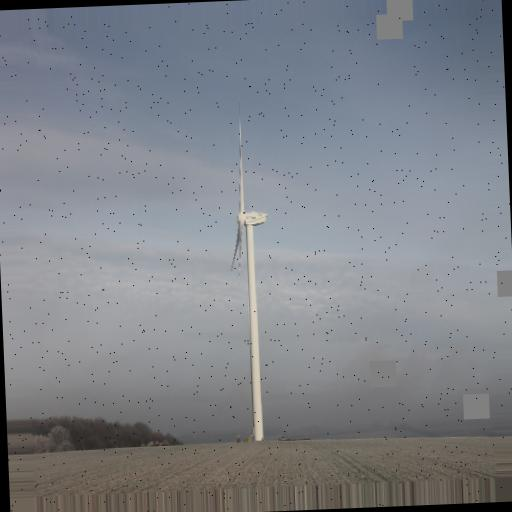wind turbine: (233, 100, 269, 444)
